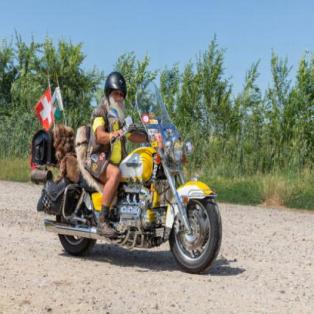Motocicleta: (29, 102, 225, 271)
